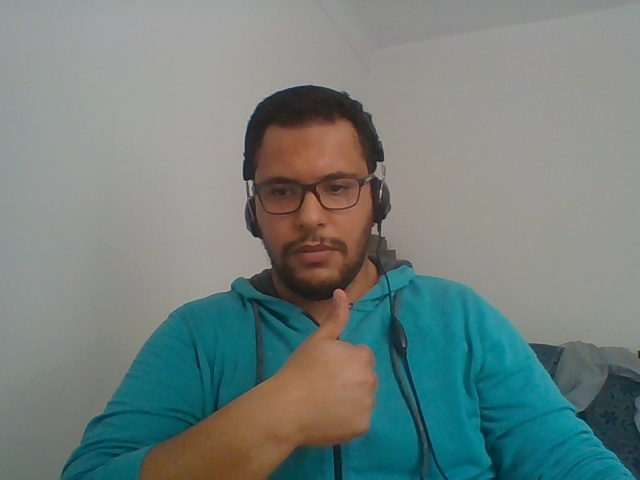ok: (279, 278, 402, 465)
